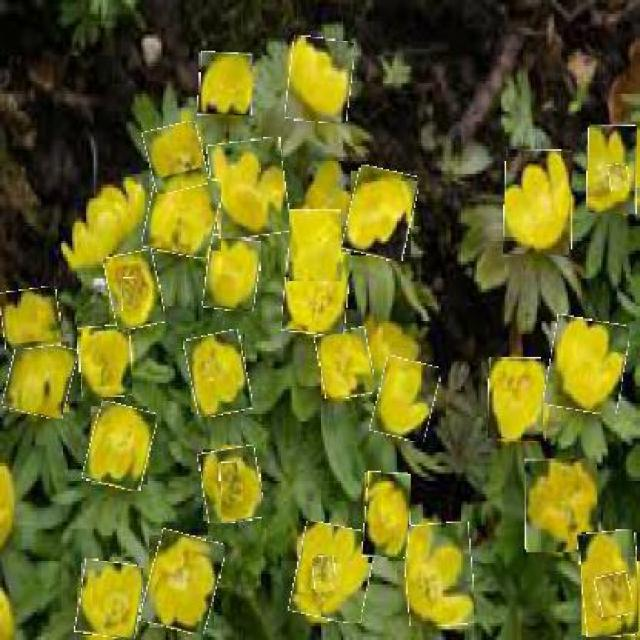Flower: (292, 523, 374, 623), (144, 532, 221, 633), (209, 140, 288, 238), (548, 318, 628, 413), (504, 150, 573, 259), (525, 458, 601, 554), (405, 524, 474, 627), (145, 171, 221, 257), (346, 168, 417, 260), (579, 531, 639, 638), (282, 250, 350, 336), (86, 404, 154, 490), (287, 37, 353, 123), (6, 338, 75, 417), (187, 332, 250, 416), (374, 359, 438, 441), (77, 562, 143, 639), (488, 358, 548, 442), (201, 447, 262, 524), (588, 126, 639, 217), (106, 253, 163, 330), (146, 123, 206, 194), (204, 235, 259, 311), (363, 472, 411, 558), (78, 325, 134, 398), (317, 329, 374, 400), (289, 209, 342, 282), (0, 288, 60, 349), (198, 52, 253, 116), (596, 572, 633, 617), (313, 556, 336, 595), (122, 278, 145, 313), (219, 462, 241, 498), (608, 163, 630, 192), (91, 588, 112, 615), (301, 282, 317, 309)
